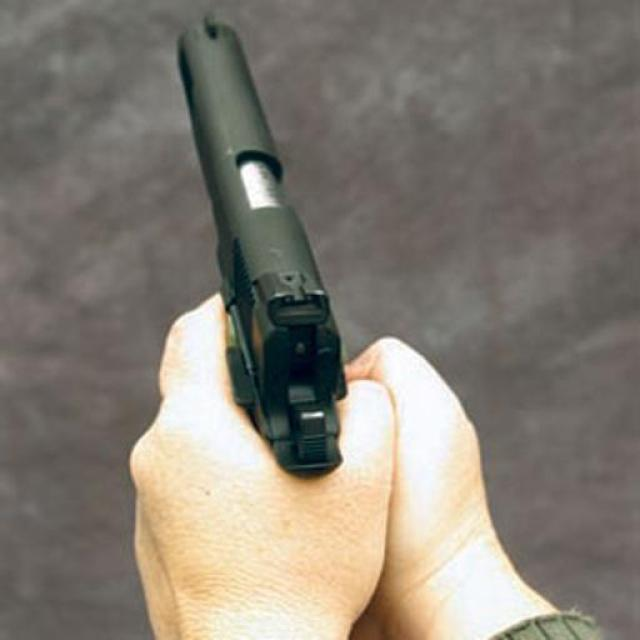pistol: (161, 11, 345, 482)
